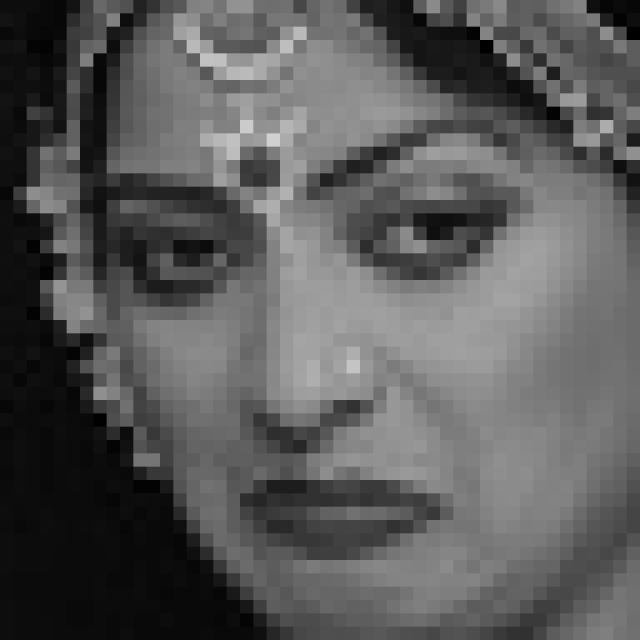disgust: (90, 120, 525, 578)
